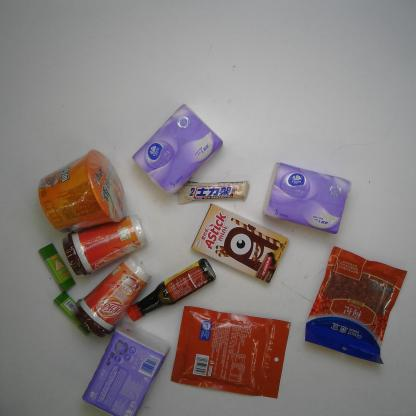Chocolate: (176, 179, 250, 205)
Dessert: (190, 202, 290, 284)
Dried Fruit: (303, 245, 410, 366), (168, 302, 294, 402)
Instant Drink: (70, 254, 154, 340), (60, 213, 150, 277)
Instant Noodles: (36, 147, 127, 234)
Seasoner: (126, 257, 218, 322)
Stationery: (36, 241, 77, 293), (51, 289, 92, 337)
Tissue: (79, 319, 174, 416), (131, 102, 225, 196), (261, 160, 353, 236)
